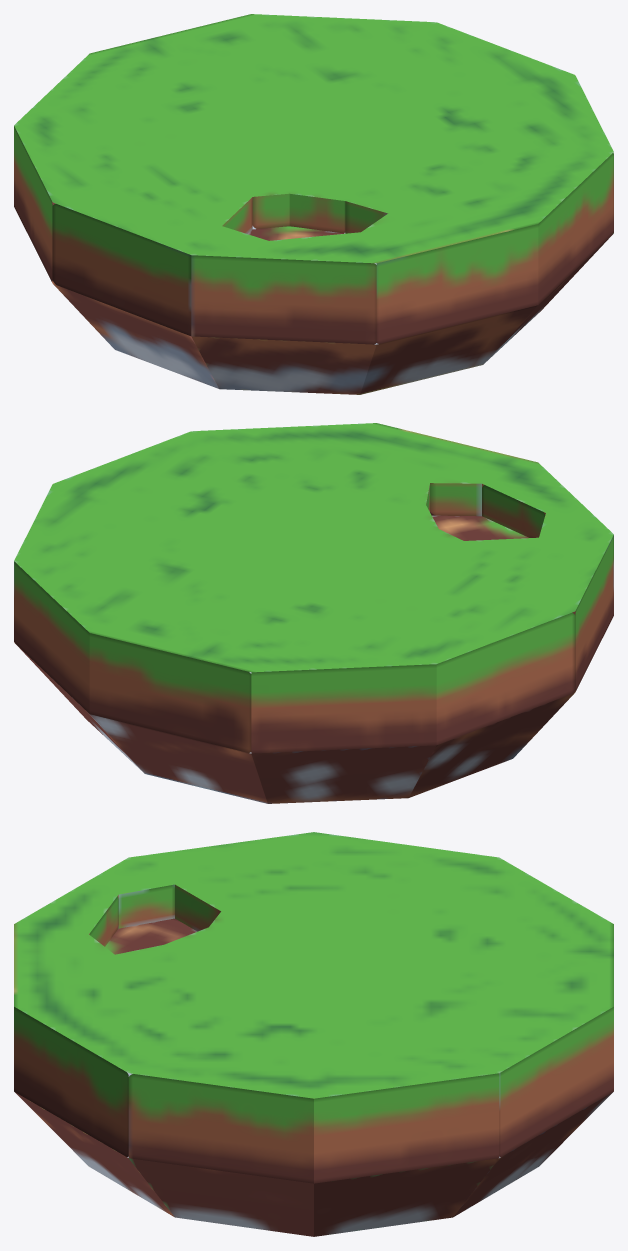
File: TestLevel_Eggventure.fbx
3 renders of one model, top to bottom at view 1: azimuth 30°, elevation 25°; view 2: azimuth 150°, elevation 25°; view 3: azimuth 270°, elevation 25°, orthographic. The views are drawn at different scales.
Parts seen in each view (by area): view 1: cylinder; view 2: cylinder; view 3: cylinder.
Boxes of the visible parts, x1=… form: cylinder: x1=14, y1=14, x2=613, y2=394; cylinder: x1=14, y1=423, x2=613, y2=803; cylinder: x1=14, y1=832, x2=613, y2=1236.
Bounding box in the file's own units: 56.08 × 20 × 53.33.
1 material, 1 textured.
